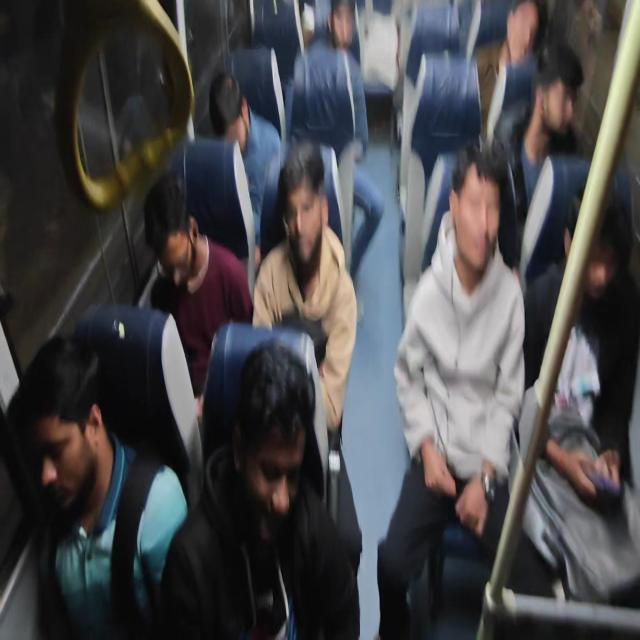person: (10, 346, 116, 520), (221, 336, 311, 526), (556, 177, 620, 310), (136, 174, 203, 293), (449, 142, 502, 285), (275, 140, 330, 264), (531, 44, 581, 146), (206, 68, 255, 164), (506, 0, 541, 66), (329, 0, 359, 50)
